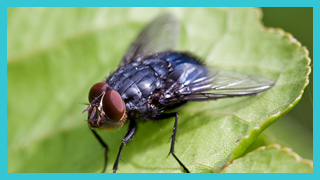green bottles fly: (70, 20, 273, 169)
